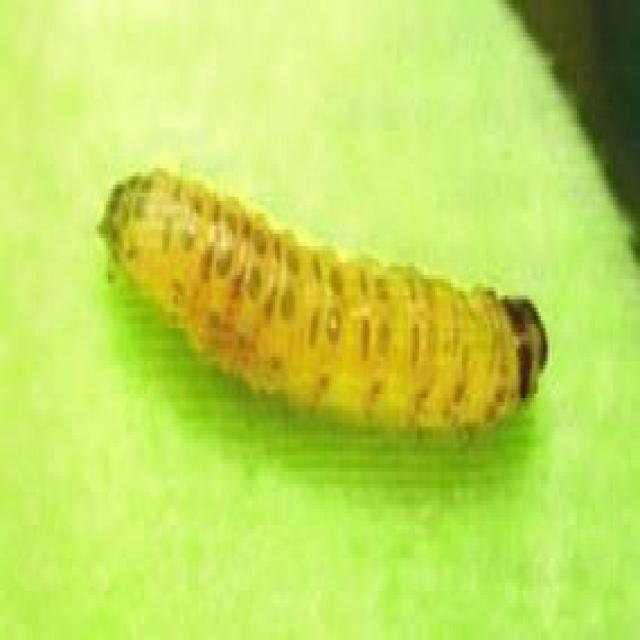peach borer: (94, 155, 549, 438)
